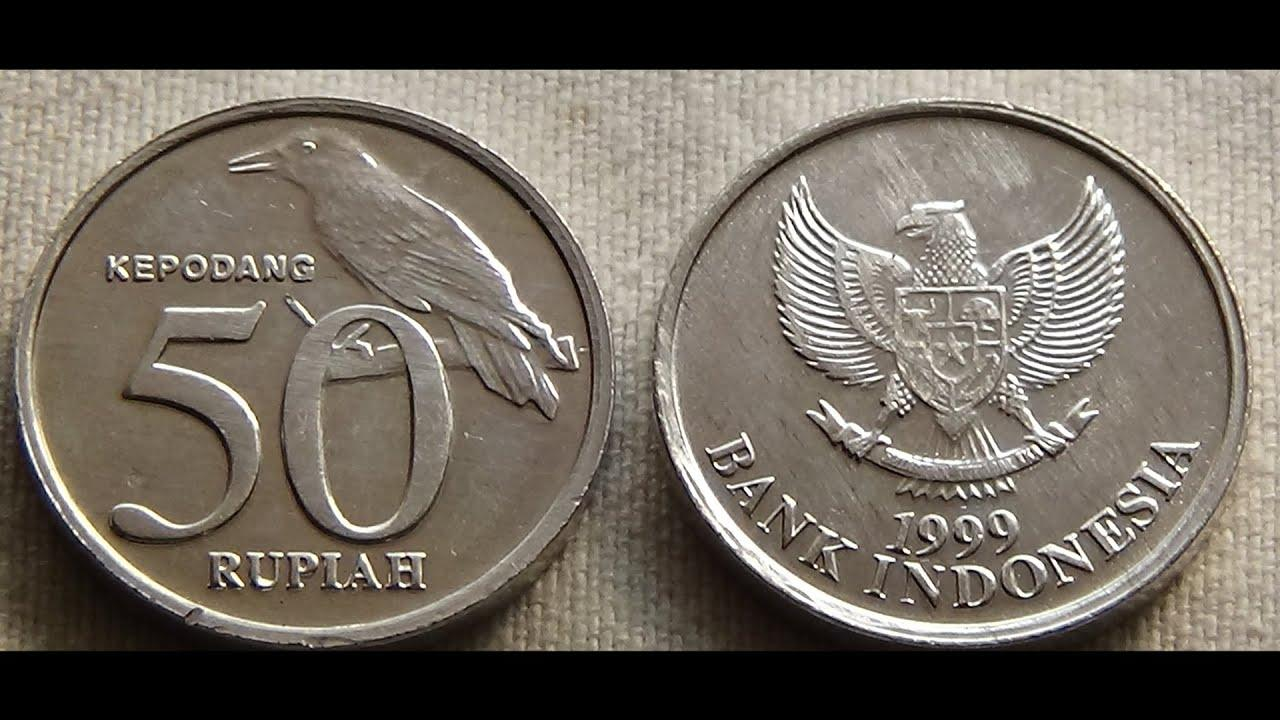coin_50_1999: (643, 95, 1259, 660), (13, 95, 620, 655)
